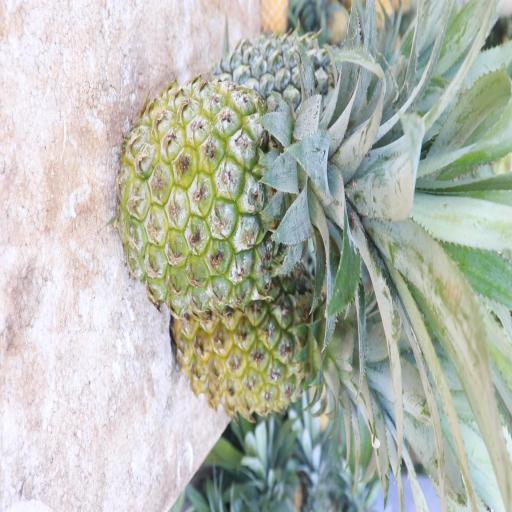------------------------------: (114, 67, 416, 319)
Pineapple - v8 v1: (167, 230, 403, 420)
